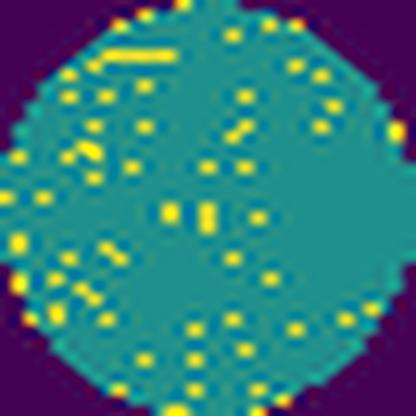Scratch: (86, 42, 186, 78)
